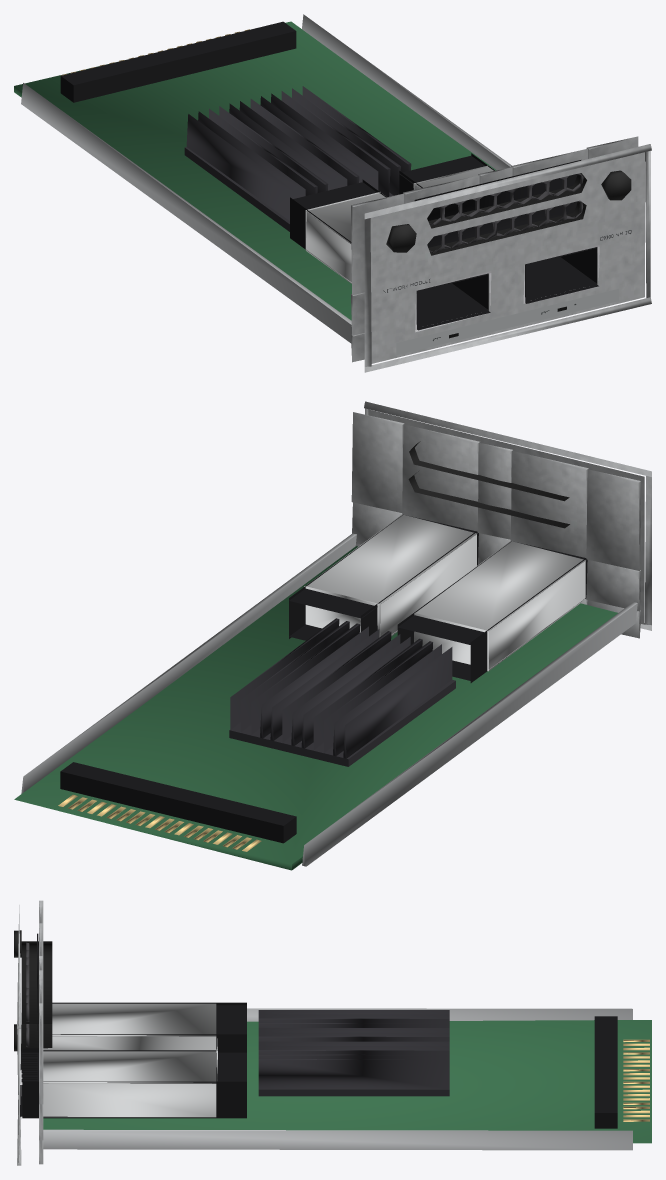
Rendered from C9300-NM-2Q.far.glb.
The picture shows the model from 3 angles, top to bottom: view 1: azimuth 30°, elevation 25°; view 2: azimuth 150°, elevation 25°; view 3: azimuth 270°, elevation 25°; orthographic projection. The views are drawn at different scales.
Visible parts, largest first — view 1: Body_far; view 2: Body_far; view 3: Body_far.
Part boxes in pixels (box(x1,y1,x2,y2)): Body_far: box(14, 14, 651, 372); Body_far: box(14, 401, 651, 870); Body_far: box(14, 900, 651, 1165).
Size of the model in its own units: 0.0772 by 0.041 by 0.167.
Materials: 4 (3 with a texture image).
